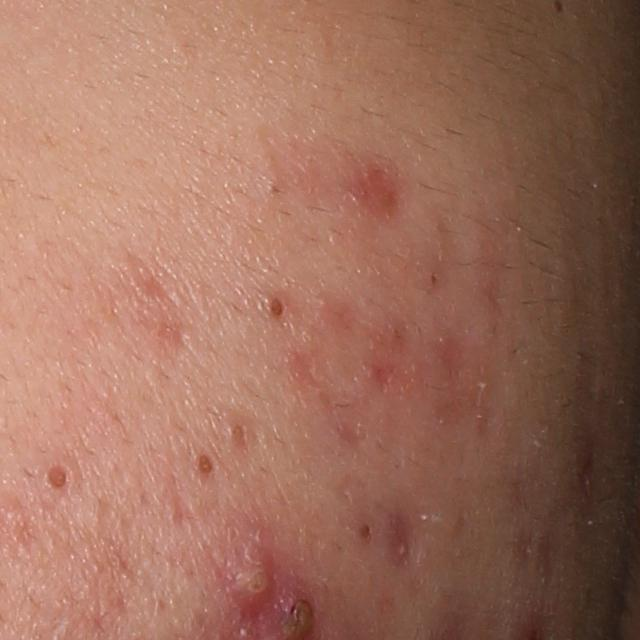atrophic_scar: (382, 508, 421, 572), (370, 364, 393, 397)
comedo: (33, 451, 84, 495), (187, 445, 222, 483), (264, 291, 291, 325), (356, 520, 376, 548)
pustule: (221, 527, 279, 613)
